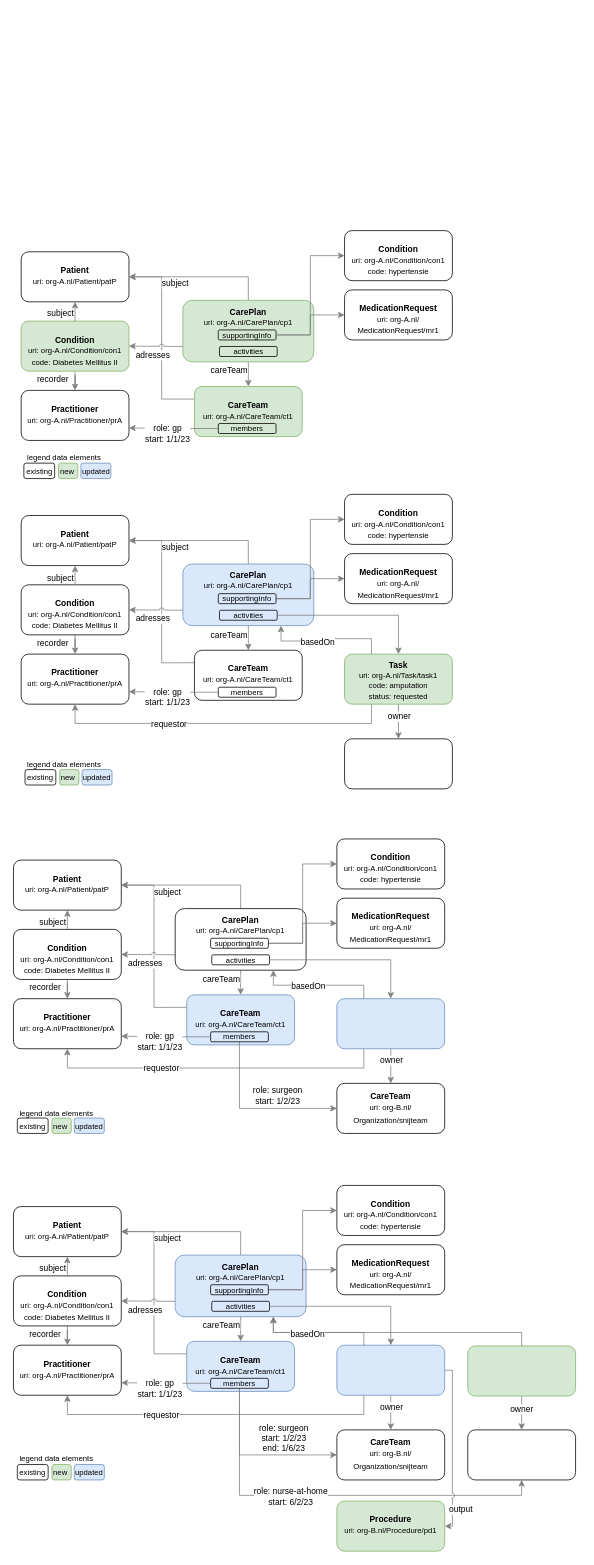
Image size: 594x1565. Some labels were removed from this diagram. Each missing label, with the centre of its shape:
CareTeam uri: org-C.nl/ Organization/wijkteam1: the point at 521,1454
Organization uri: org-A.nl/Organization/orgB: the point at 398,763
Task uri: org-A.nl/Task/task1 code: amputation status: accepted: the point at 390,1023
Task uri: org-A.nl/Task/task1 code: amputation status: completed: the point at 390,1369
Task uri: org-B.nl/Task/task1 code: revalidation status: in-progress: the point at 521,1370
